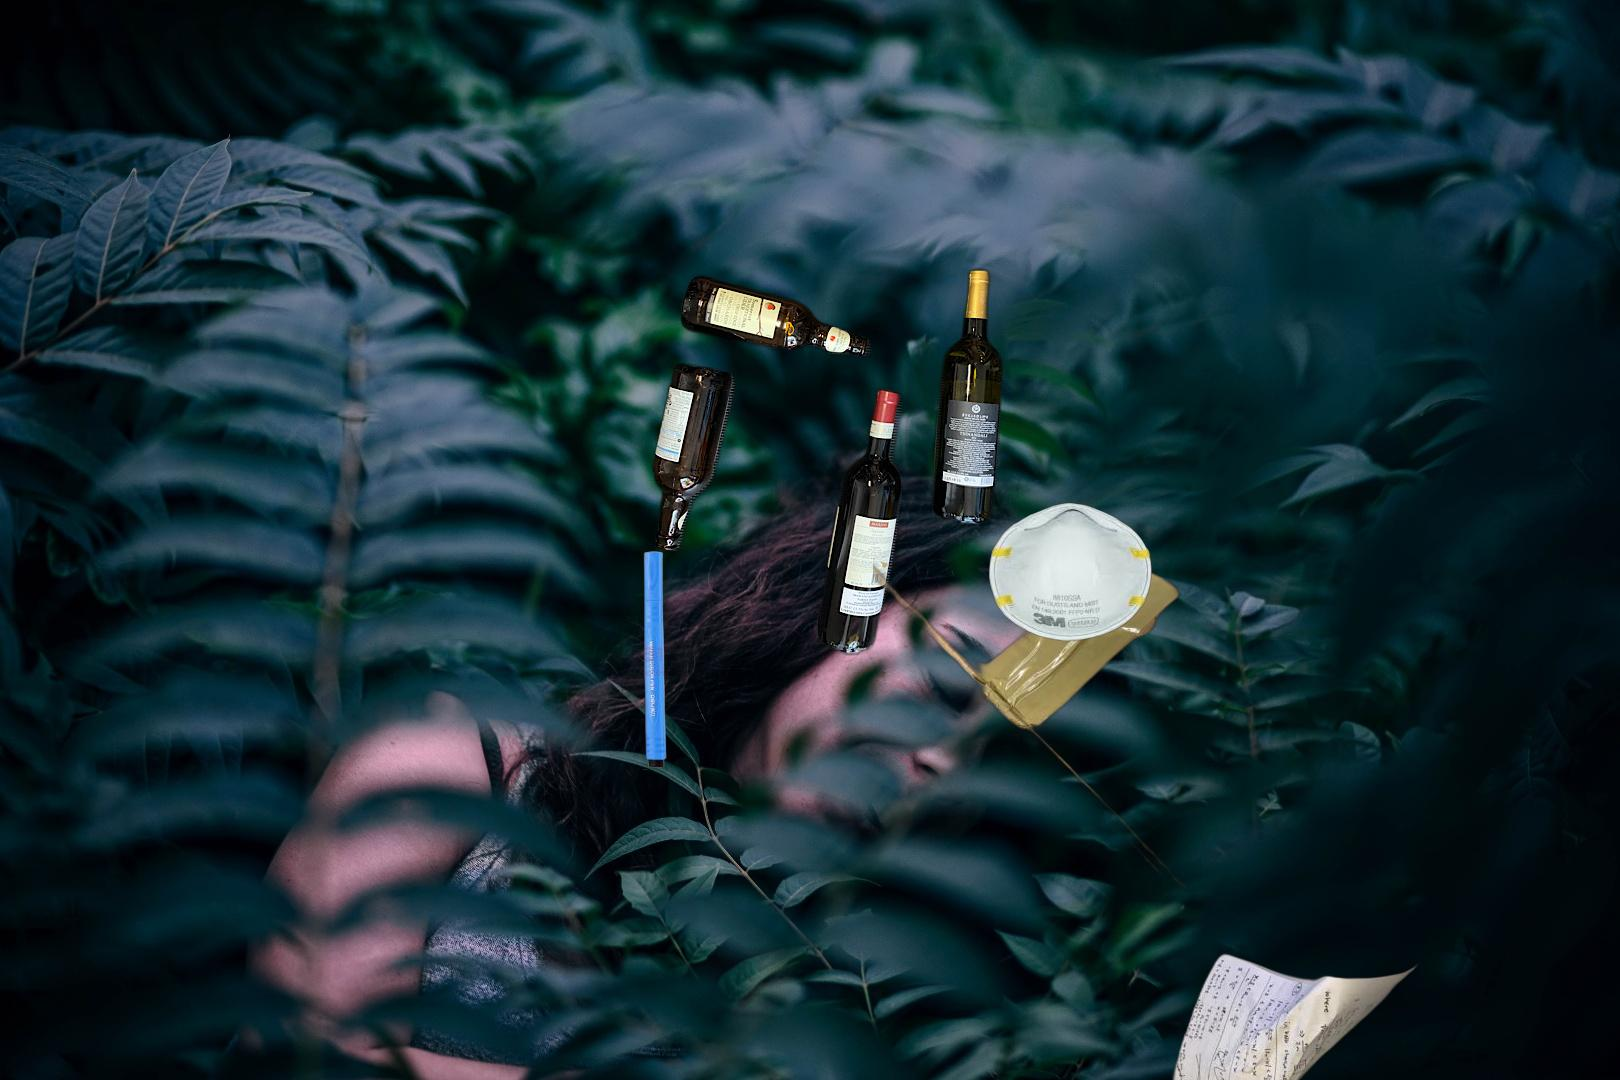glass: (648, 263, 1008, 661)
paper: (1168, 951, 1421, 1080)
penholder: (641, 548, 709, 769)
trash: (986, 500, 1155, 644)
trashbox-cardboard: (873, 558, 1244, 943)
